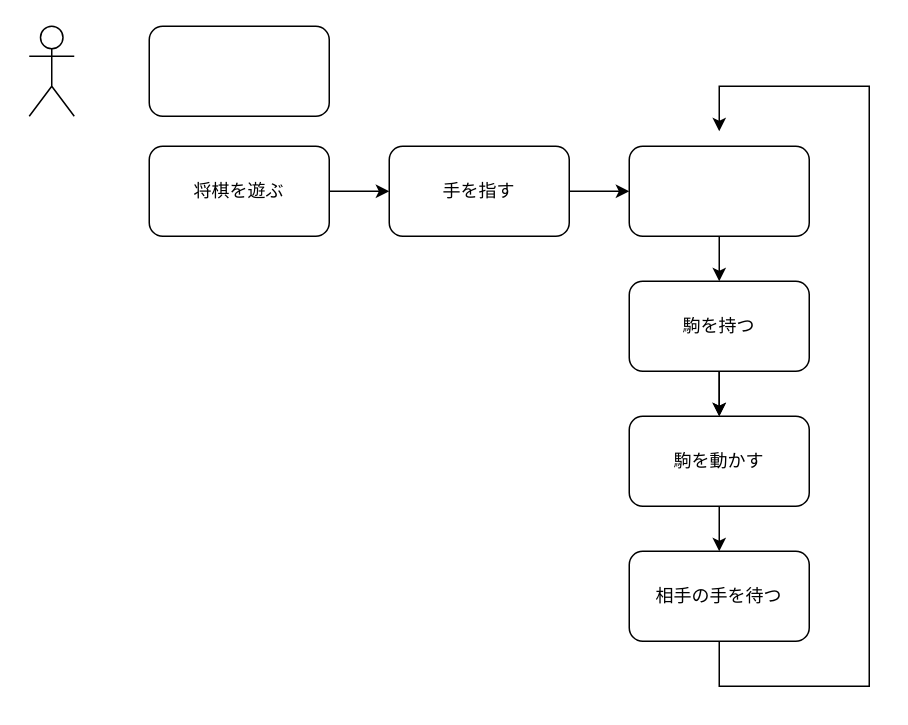
The diagram is 908 pixels wide and 725 high, and some of its shapes have lost their labels. The shapes that lost their labels are listed below. From the top down, each one's centre as x and y in pixels, then its label:
At (x=51, y=70): "Player".
At (x=238, y=70): "ゲームを開始する".
At (x=718, y=190): "自分の手番".
